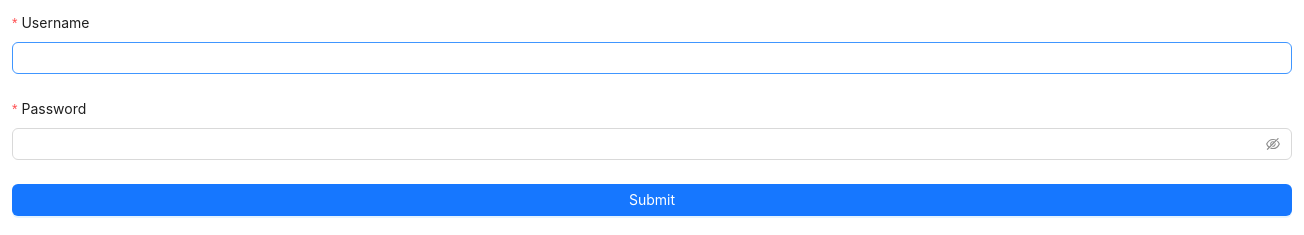
LoginForm › should show validation errors when fields are empty
The image size is (1304, 235).
Click the button "Submit". click: click(652, 200)
box: [12,184,1292,216]
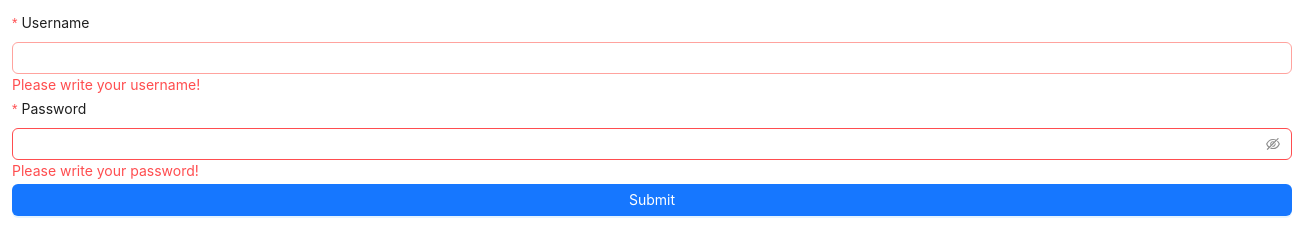
Expected: the text "Please write your username!" is shown, [12,76,200,93]
Expected: the text "Please write your password!" is shown, [12,162,199,179]
